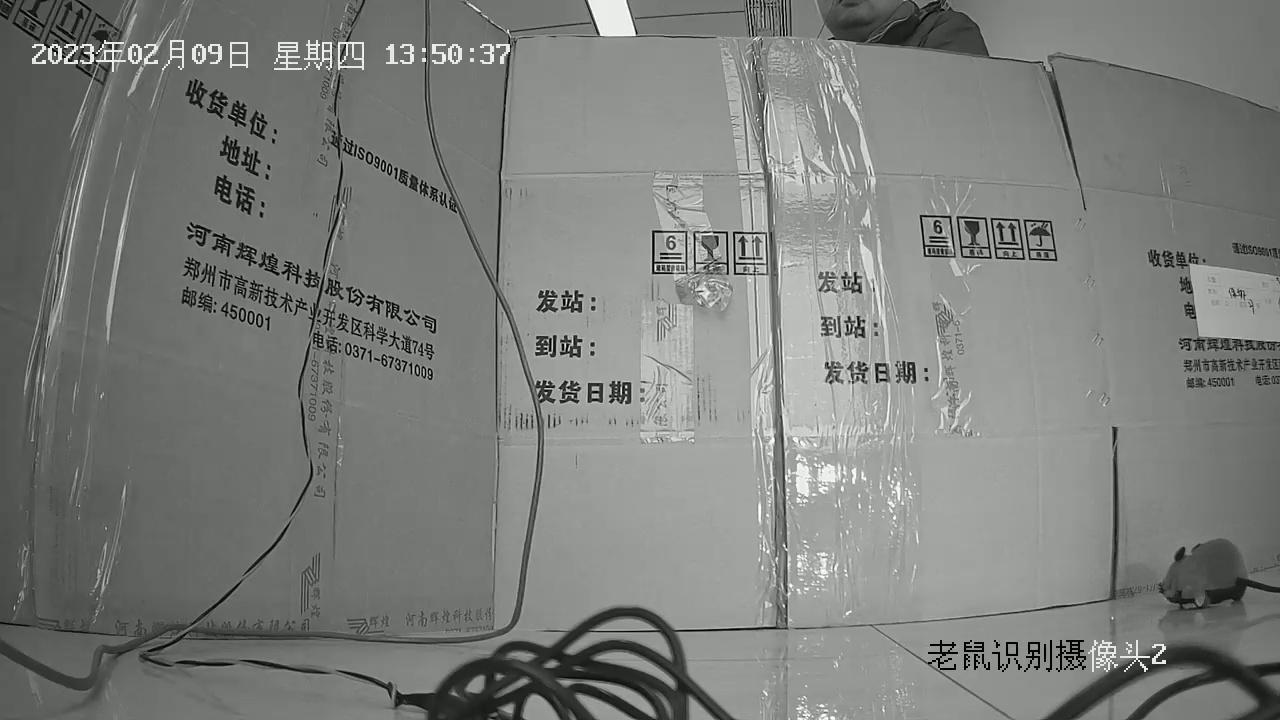rat: (1161, 537, 1278, 608)
